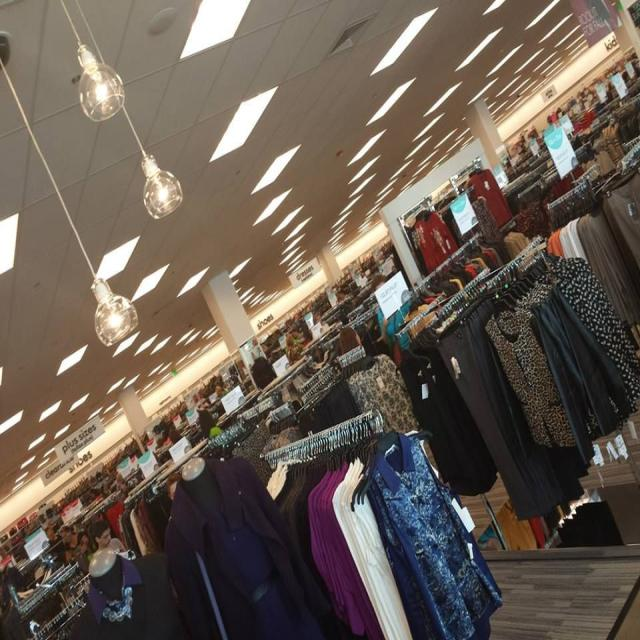body: (58, 524, 119, 608), (370, 273, 416, 371), (167, 426, 214, 505), (44, 525, 92, 595), (596, 57, 640, 123), (213, 383, 247, 451), (0, 564, 28, 640), (163, 470, 196, 515), (91, 518, 127, 558), (311, 307, 333, 361), (337, 287, 362, 333), (198, 408, 226, 444), (280, 316, 304, 352), (307, 342, 331, 377), (337, 324, 362, 356), (88, 488, 106, 520), (115, 471, 126, 493)
